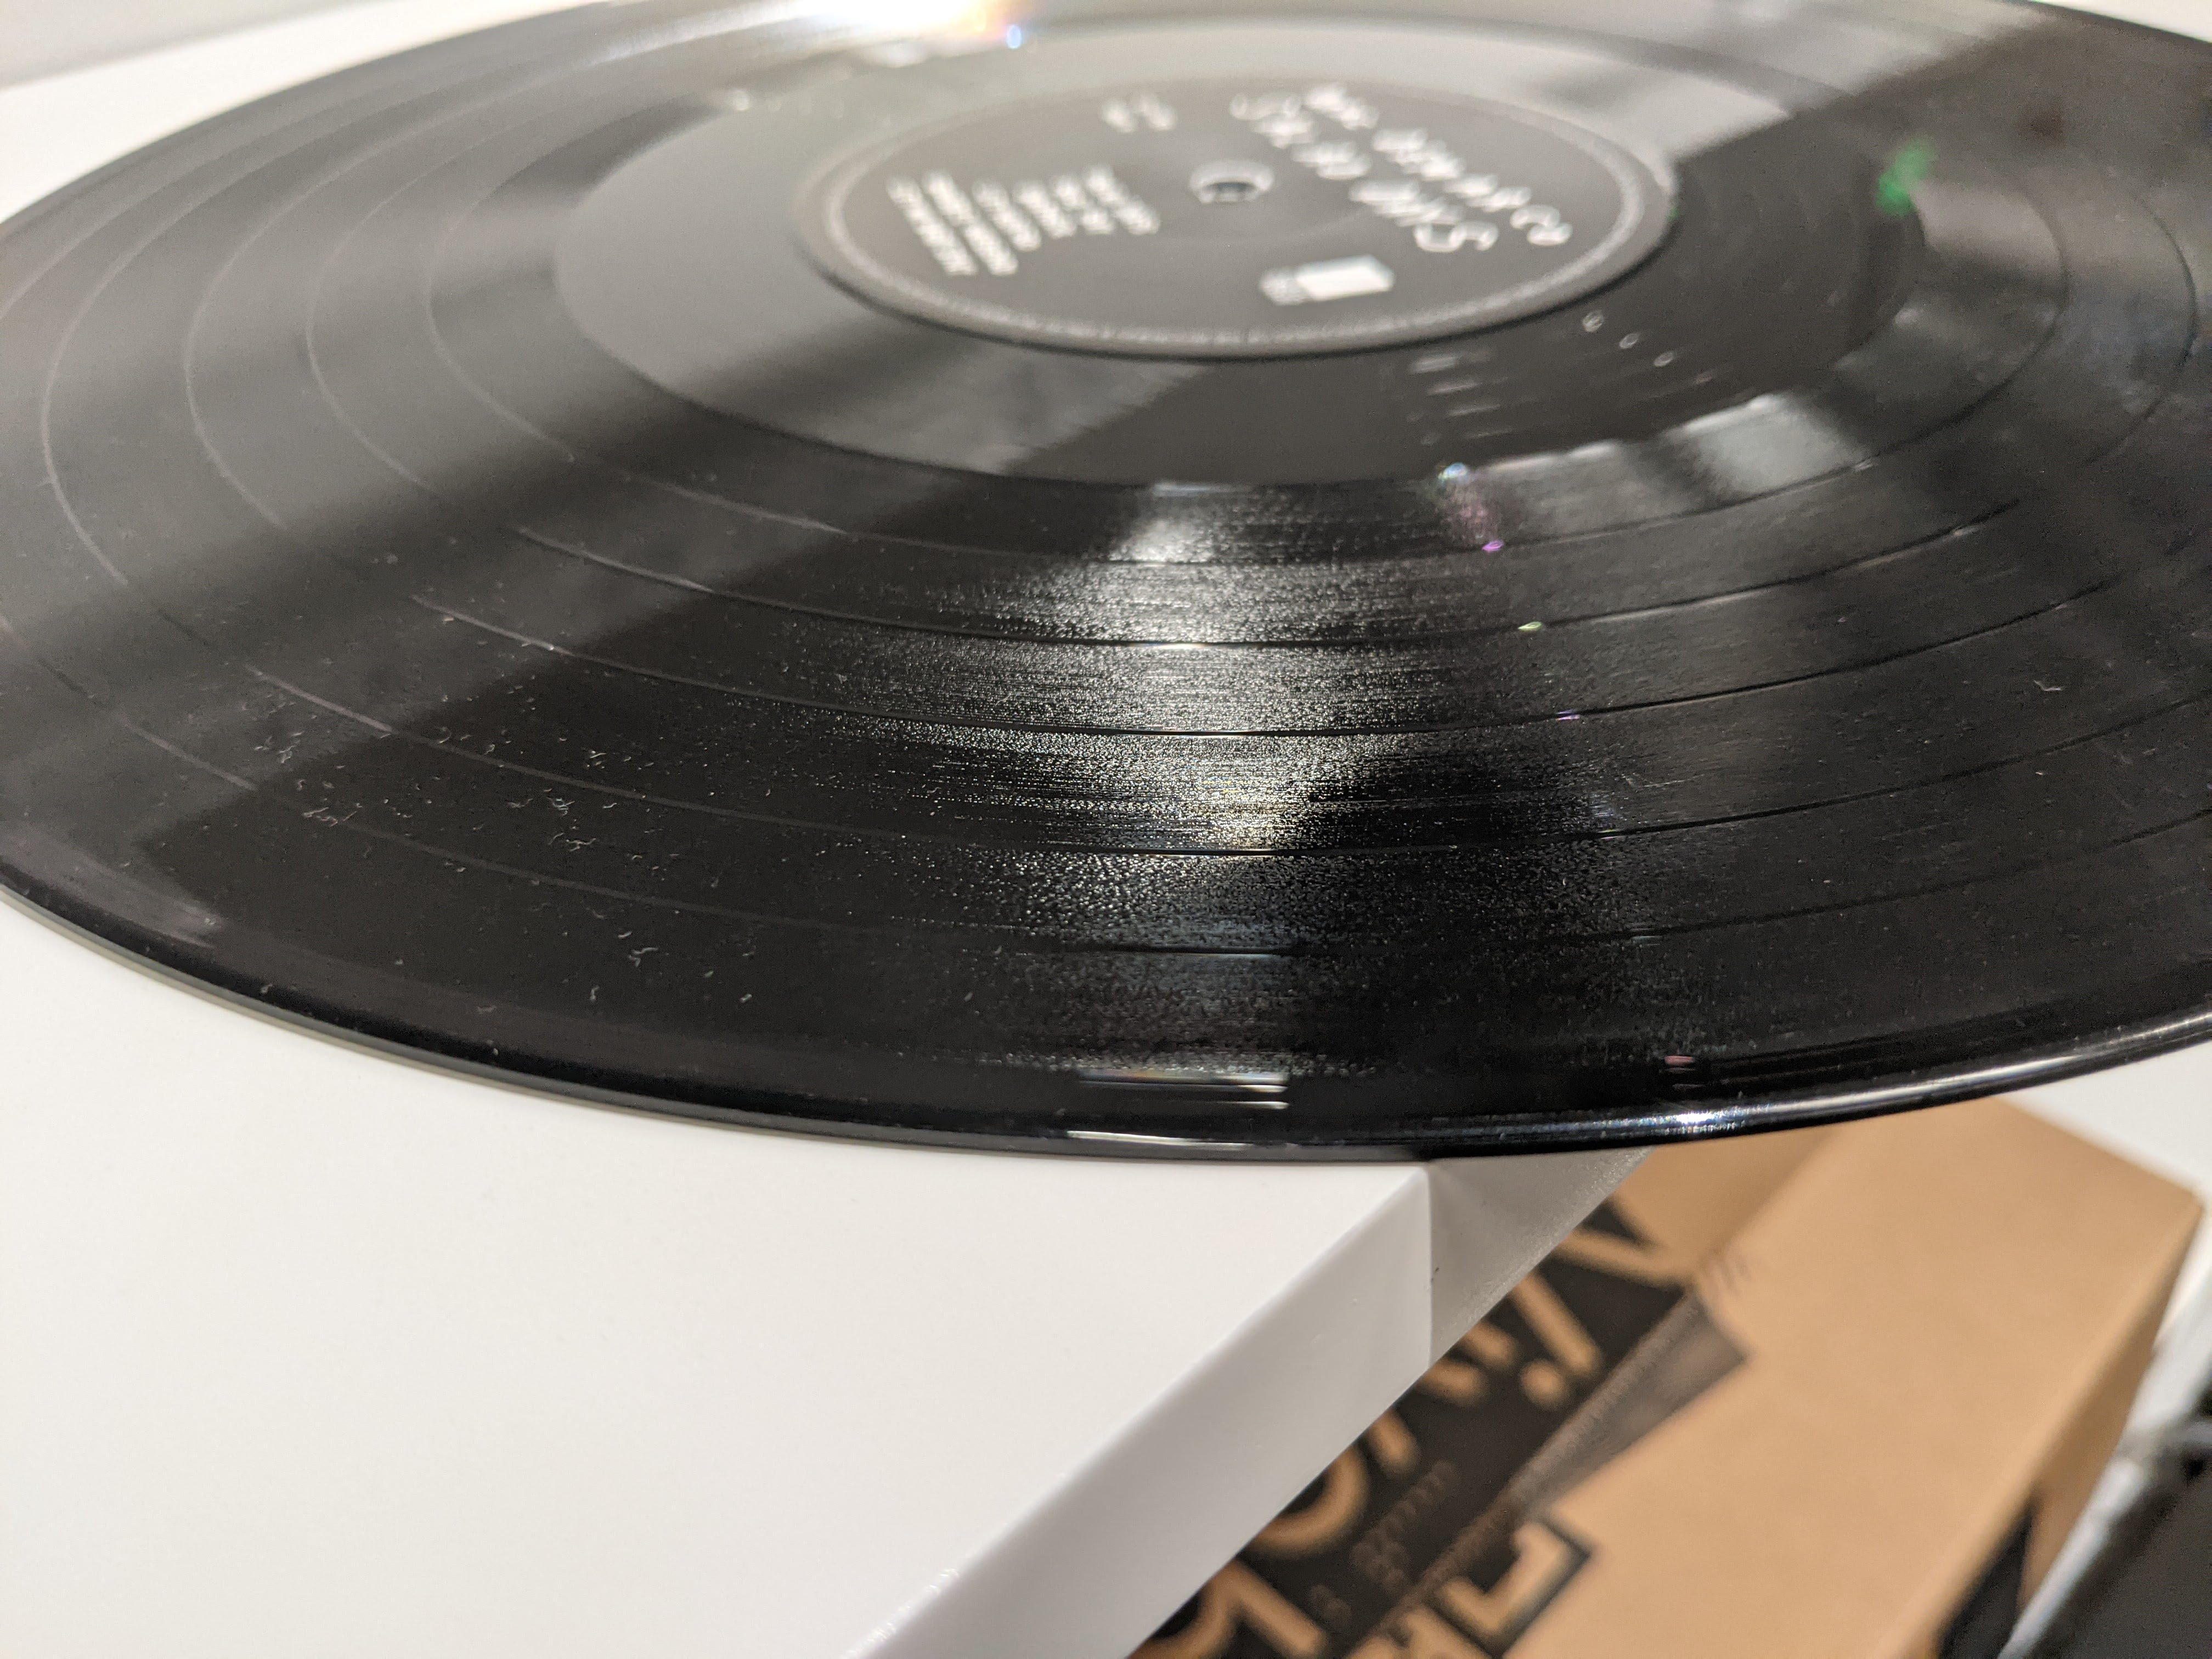song_edge: (145, 394, 293, 535), (266, 340, 392, 476), (186, 725, 303, 852), (61, 493, 157, 627), (402, 340, 538, 434)
